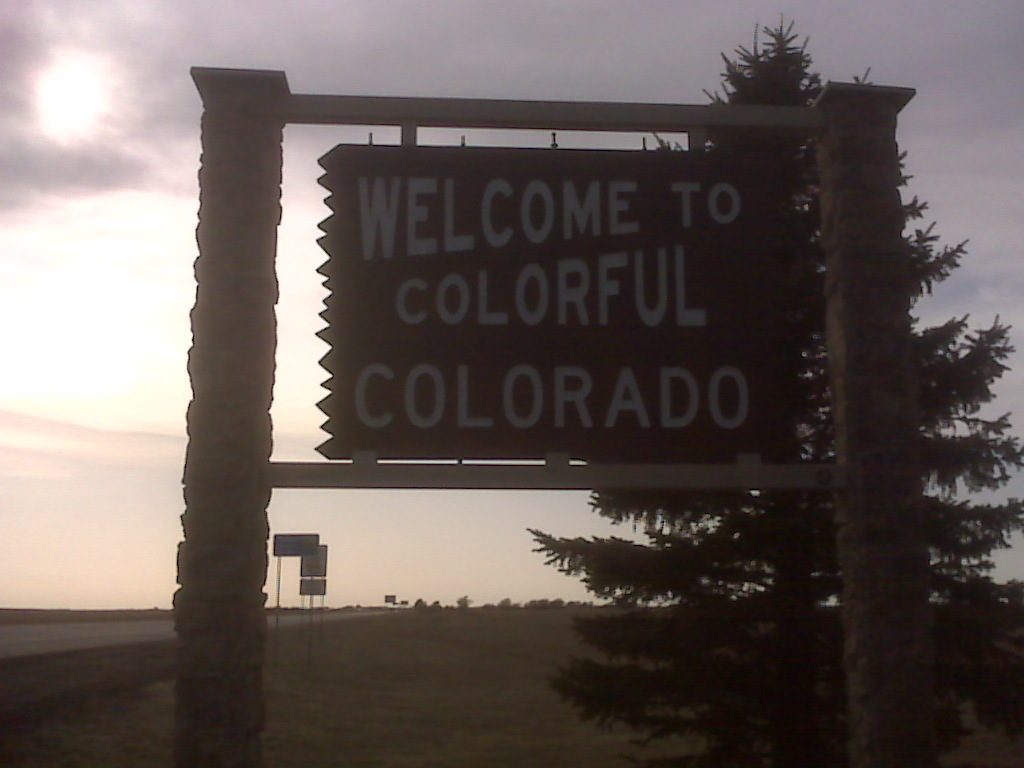Tree: (524, 14, 1022, 767), (524, 597, 593, 609), (455, 594, 471, 609), (412, 598, 428, 611), (497, 598, 510, 607), (513, 601, 522, 609)
